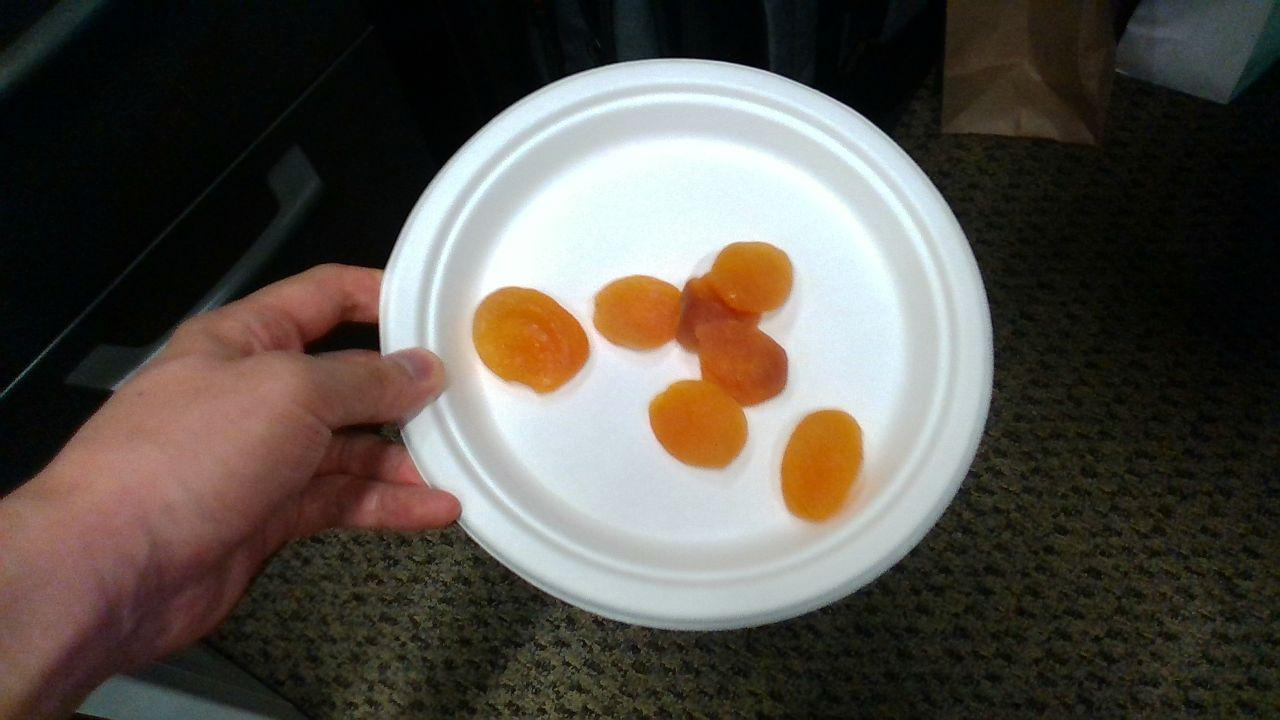apricot: (474, 288, 590, 394), (782, 412, 862, 521), (650, 381, 747, 469), (697, 321, 789, 403), (594, 275, 682, 350), (713, 243, 793, 311)
plate: (381, 59, 993, 628)
